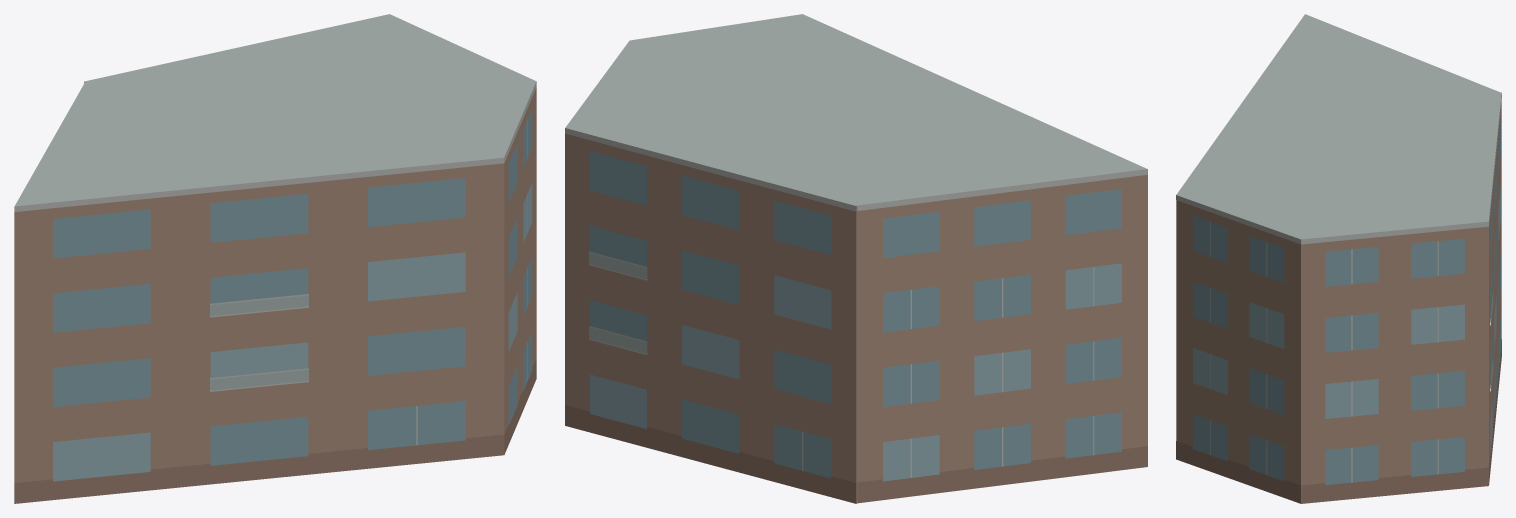
The model's file is survey-upis-32754196.glb.
3 views of the same model, side by side, from view 1: azimuth 30°, elevation 25°; view 2: azimuth 150°, elevation 25°; view 3: azimuth 270°, elevation 25° (orthographic). The views are drawn at different scales.
Visible parts, largest first — view 1: survey-upis-32754196.tmp; view 2: survey-upis-32754196.tmp; view 3: survey-upis-32754196.tmp.
Part boxes in pixels (x1,y1,x2,y2): survey-upis-32754196.tmp: (14,14,536,503); survey-upis-32754196.tmp: (565,14,1147,503); survey-upis-32754196.tmp: (1176,14,1501,503).
Bounding box in the file's own units: 23.61 × 12.9 × 14.41.
